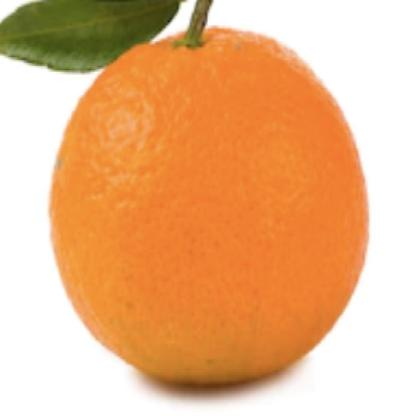fresh: (51, 26, 369, 386)
